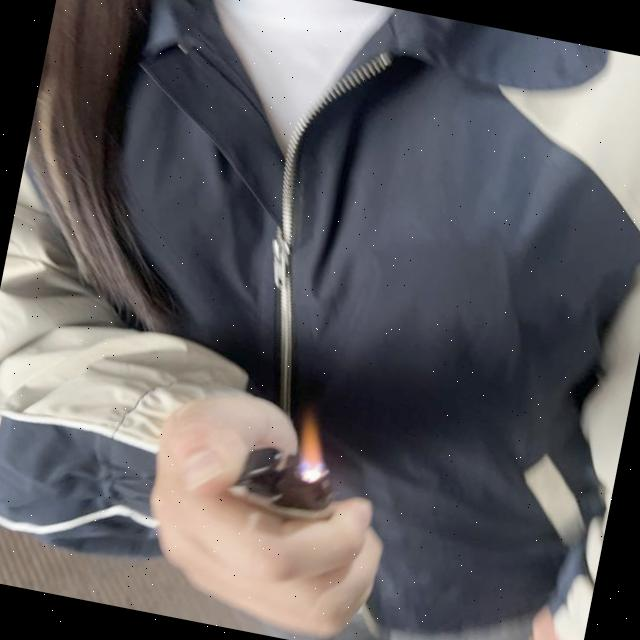fire: (292, 408, 338, 488)
